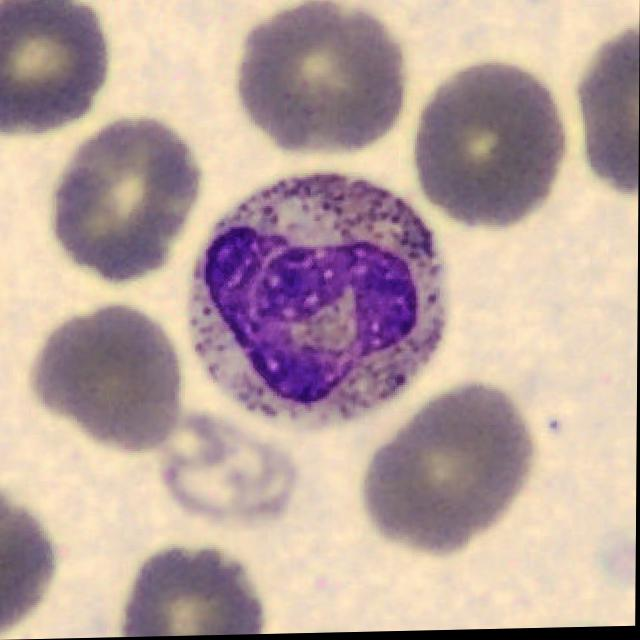Neutrofilo segmentado: (188, 172, 448, 433)
